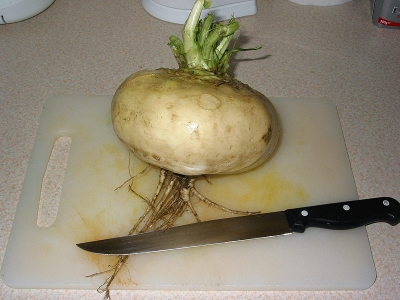turnip: (104, 0, 300, 200)
